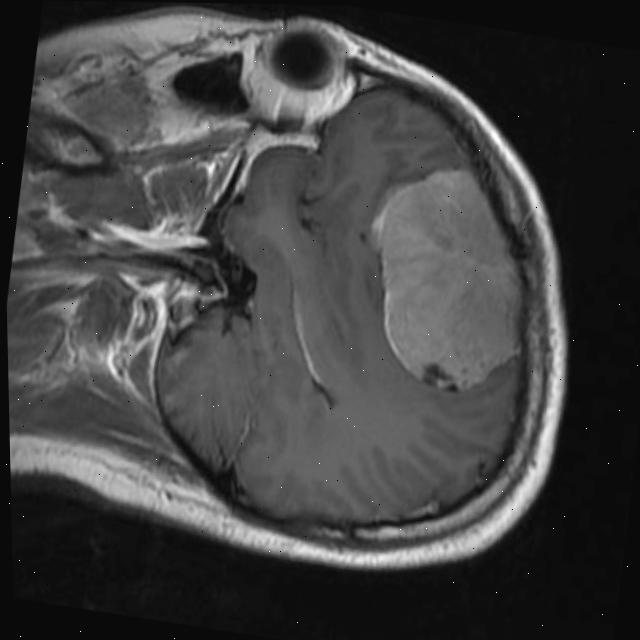Meningioma: (347, 155, 547, 402)
